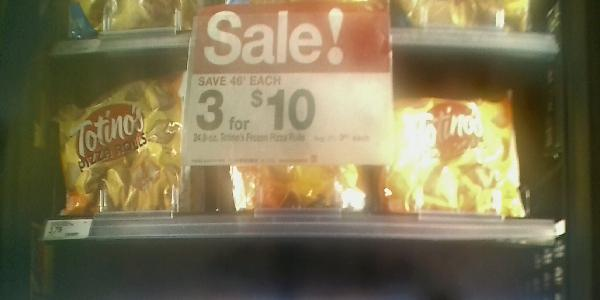icecream: (186, 53, 378, 217), (380, 66, 539, 223), (50, 66, 185, 222)
